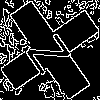Z: (25, 25, 80, 77)
